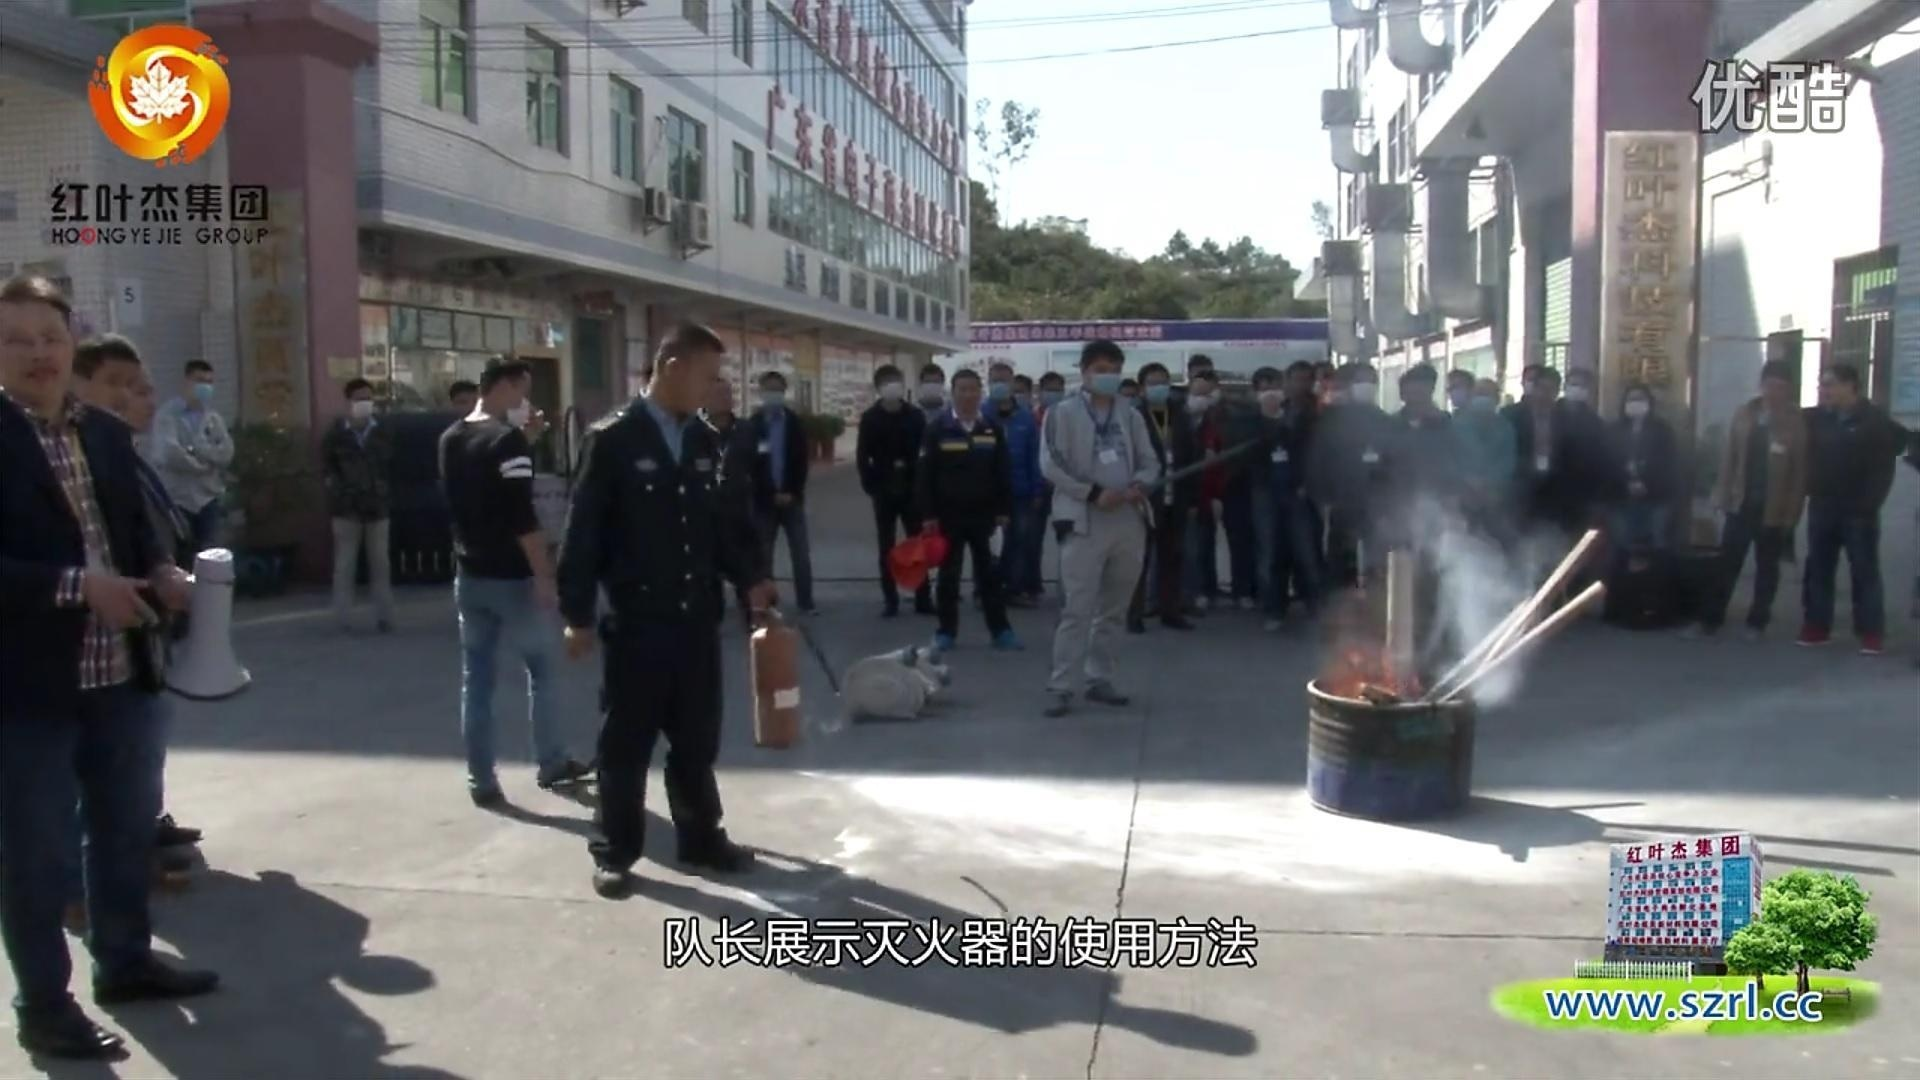fire: (1327, 651, 1418, 704)
